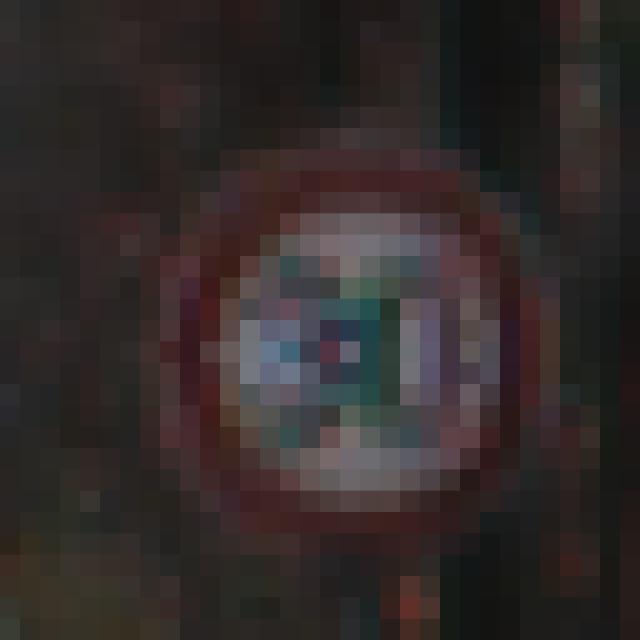Speed Limit -30-: (110, 96, 530, 523)
